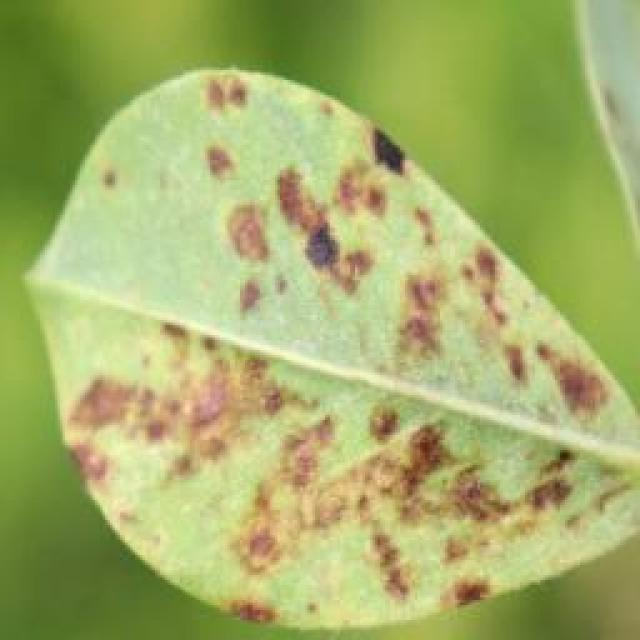Whitefly: (37, 60, 640, 635)
